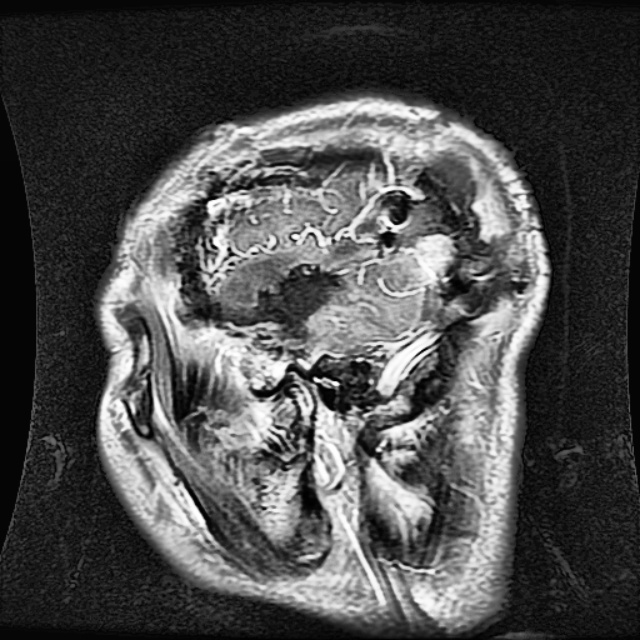Meningioma: (382, 154, 508, 317)
